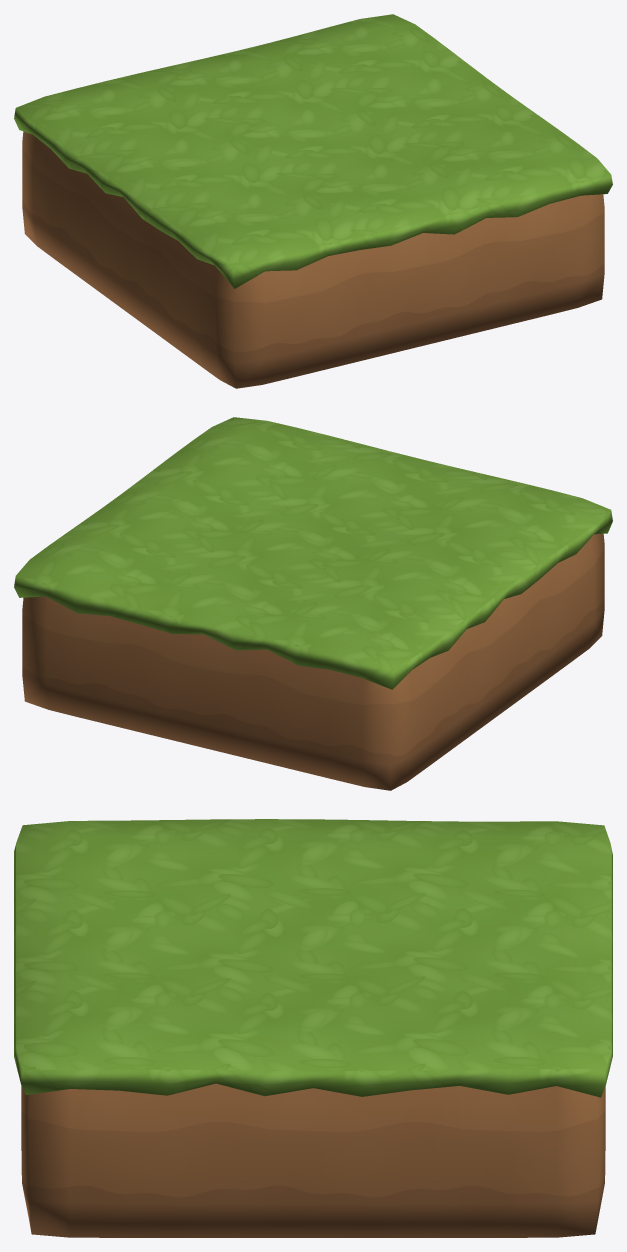
File: meadow_patch.glb
3 renders of one model, top to bottom at view 1: azimuth 30°, elevation 25°; view 2: azimuth 150°, elevation 25°; view 3: azimuth 270°, elevation 25°, orthographic. The views are drawn at different scales.
Visible parts, largest first — view 1: meadow_patch; view 2: meadow_patch; view 3: meadow_patch.
Part boxes in pixels (<box>): meadow_patch: <box>14,14,612,388</box>; meadow_patch: <box>14,417,612,790</box>; meadow_patch: <box>14,819,612,1237</box>.
Bounding box in the file's own units: 3.07 × 1.07 × 3.07.
2 materials, 2 textured.
